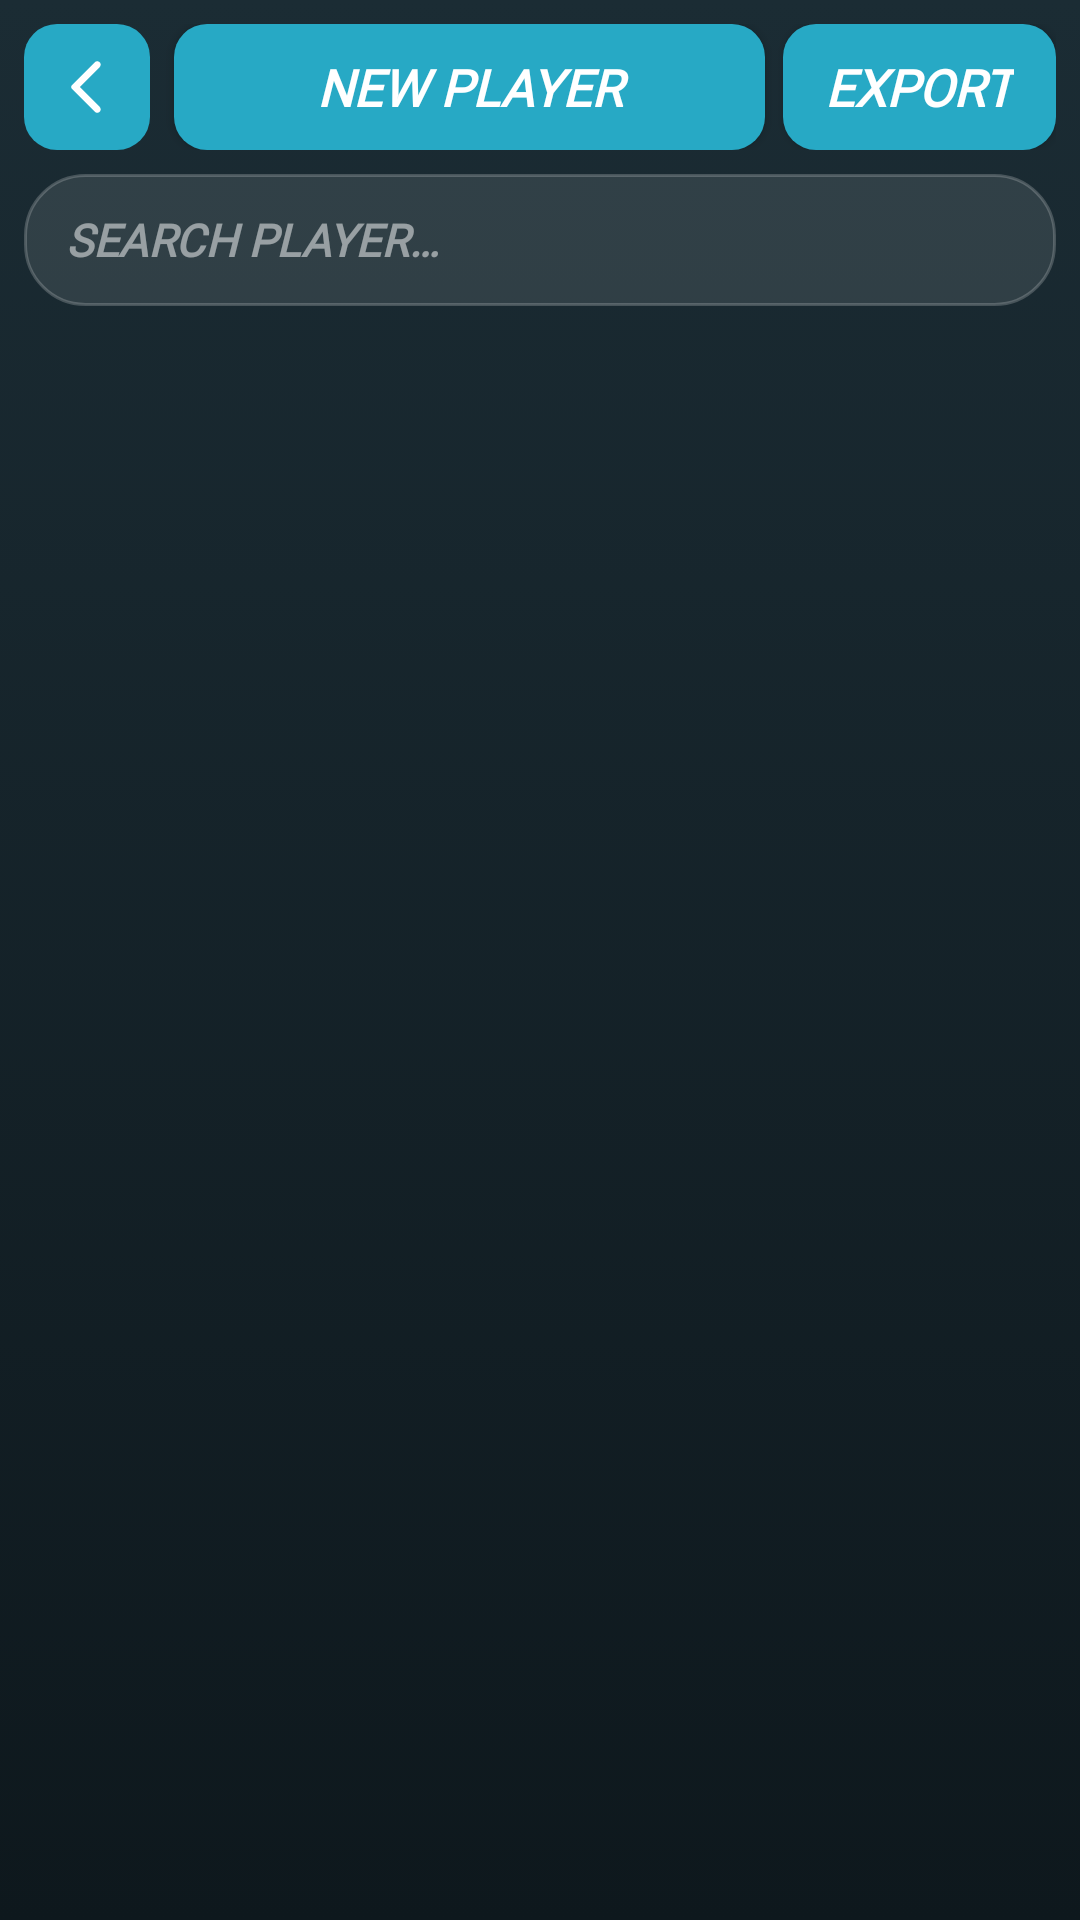

Screen size 1080 × 1920. Icon name, then its center in pixels as (x=x, y=y):
BACK: (x=87, y=87)
